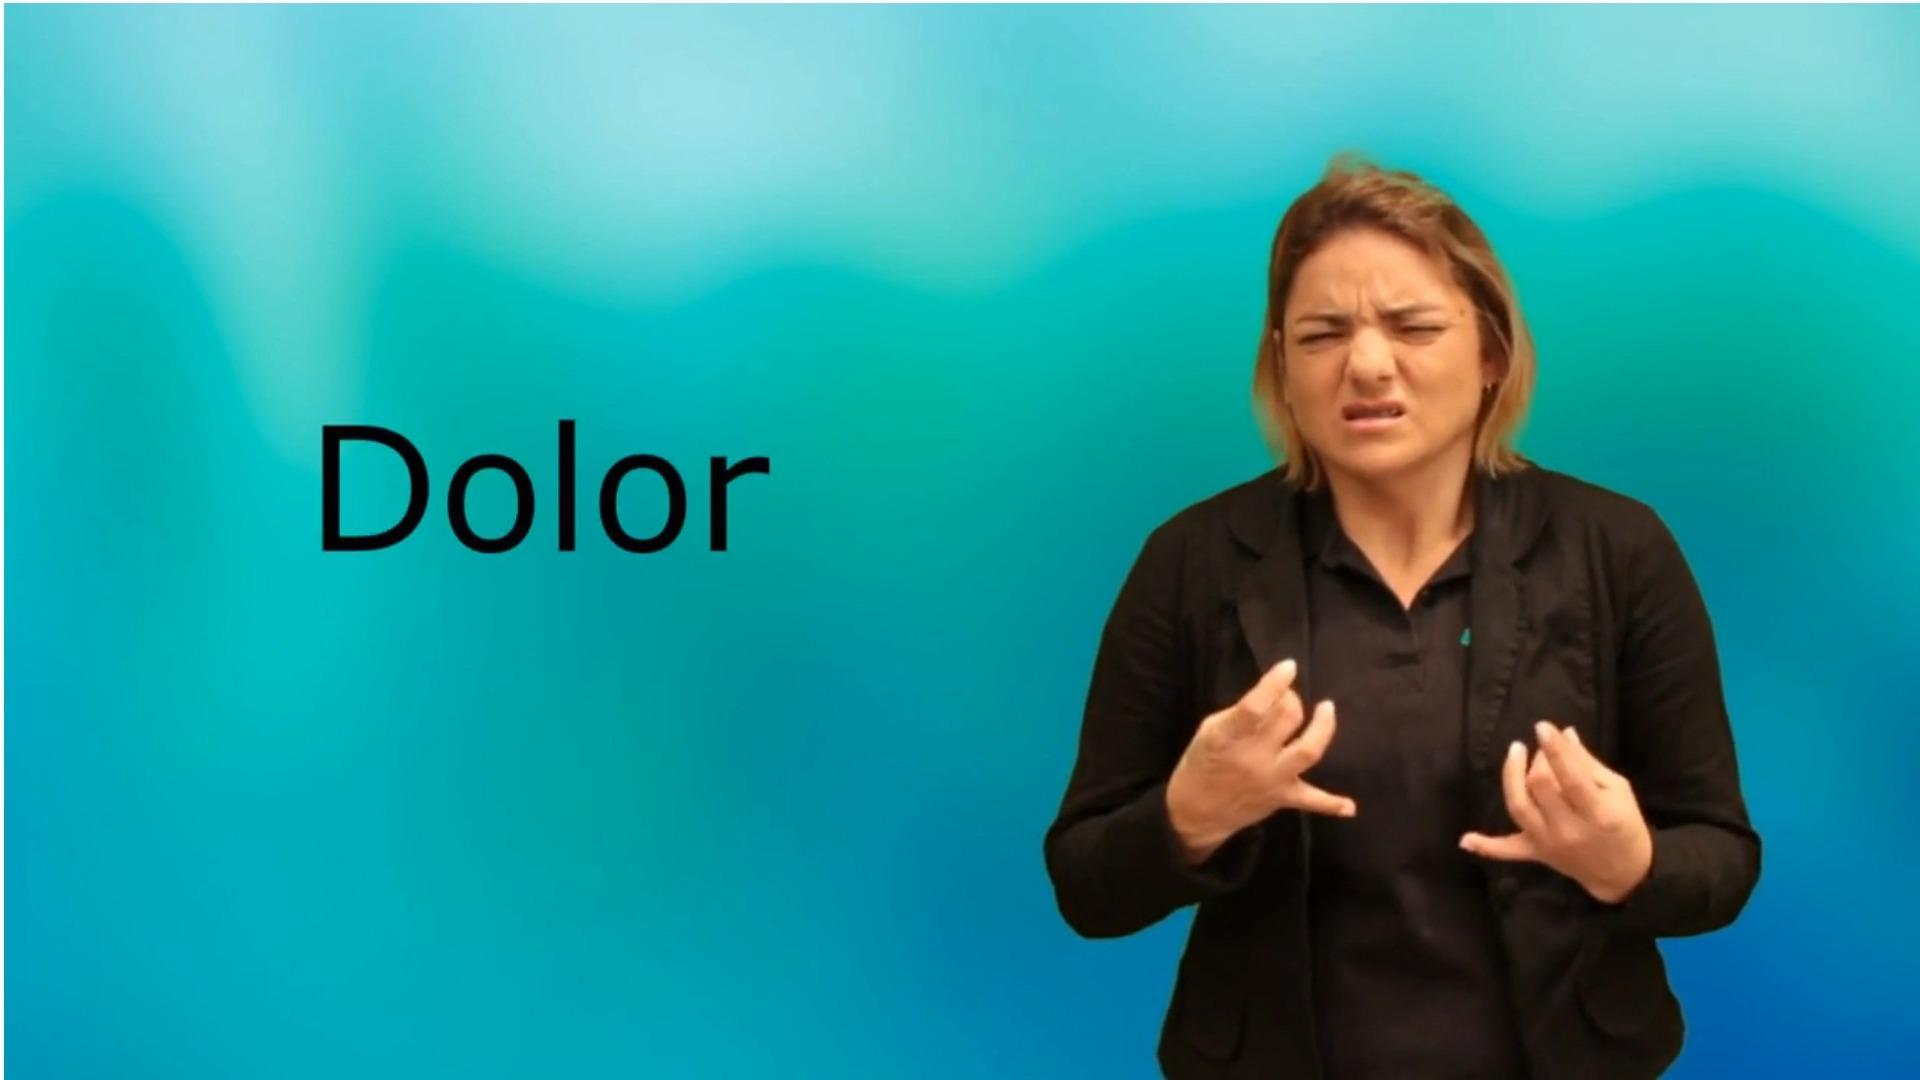Dolor: (1001, 137, 1835, 1011)
